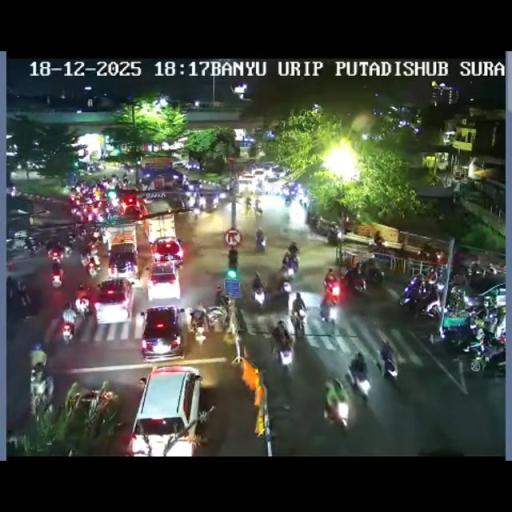Car: (127, 364, 203, 454), (138, 306, 184, 360), (92, 278, 134, 323), (146, 262, 184, 303), (106, 242, 140, 280), (150, 236, 185, 266), (118, 191, 143, 217), (264, 172, 282, 190), (184, 179, 203, 196), (238, 174, 254, 192), (252, 168, 266, 183), (26, 161, 44, 170)
Motorcycle: (243, 242, 308, 358), (400, 278, 442, 318), (84, 386, 118, 434), (465, 336, 504, 374), (438, 310, 476, 348), (29, 366, 54, 414), (323, 378, 348, 425), (346, 361, 372, 398), (68, 224, 102, 252), (272, 324, 293, 363), (340, 266, 366, 296), (275, 362, 294, 401), (378, 350, 398, 384), (203, 303, 227, 331), (447, 285, 470, 314), (29, 342, 46, 376), (363, 263, 385, 287), (189, 314, 207, 342), (282, 246, 300, 274), (16, 286, 34, 312), (290, 307, 306, 336), (250, 282, 266, 311), (319, 298, 336, 324), (481, 309, 498, 334), (323, 278, 340, 302), (86, 254, 102, 276), (450, 270, 469, 288), (74, 294, 90, 315), (60, 321, 74, 344), (278, 273, 292, 295), (306, 212, 320, 234), (326, 226, 342, 245), (47, 245, 64, 262), (466, 261, 484, 277), (486, 262, 506, 276), (6, 277, 18, 300), (70, 205, 86, 222), (105, 202, 119, 220), (424, 268, 438, 285), (60, 240, 73, 258), (214, 285, 225, 305), (28, 241, 42, 256), (415, 248, 430, 262), (256, 234, 266, 253), (101, 226, 111, 244), (52, 271, 62, 288), (228, 176, 238, 193), (373, 236, 386, 249), (298, 194, 308, 209), (254, 182, 265, 195), (452, 190, 461, 204), (434, 249, 443, 263), (254, 198, 262, 212), (198, 196, 206, 210), (179, 195, 187, 209), (284, 194, 293, 206), (211, 195, 219, 208), (193, 207, 200, 221), (245, 199, 252, 211), (218, 190, 226, 200), (121, 178, 128, 188)
